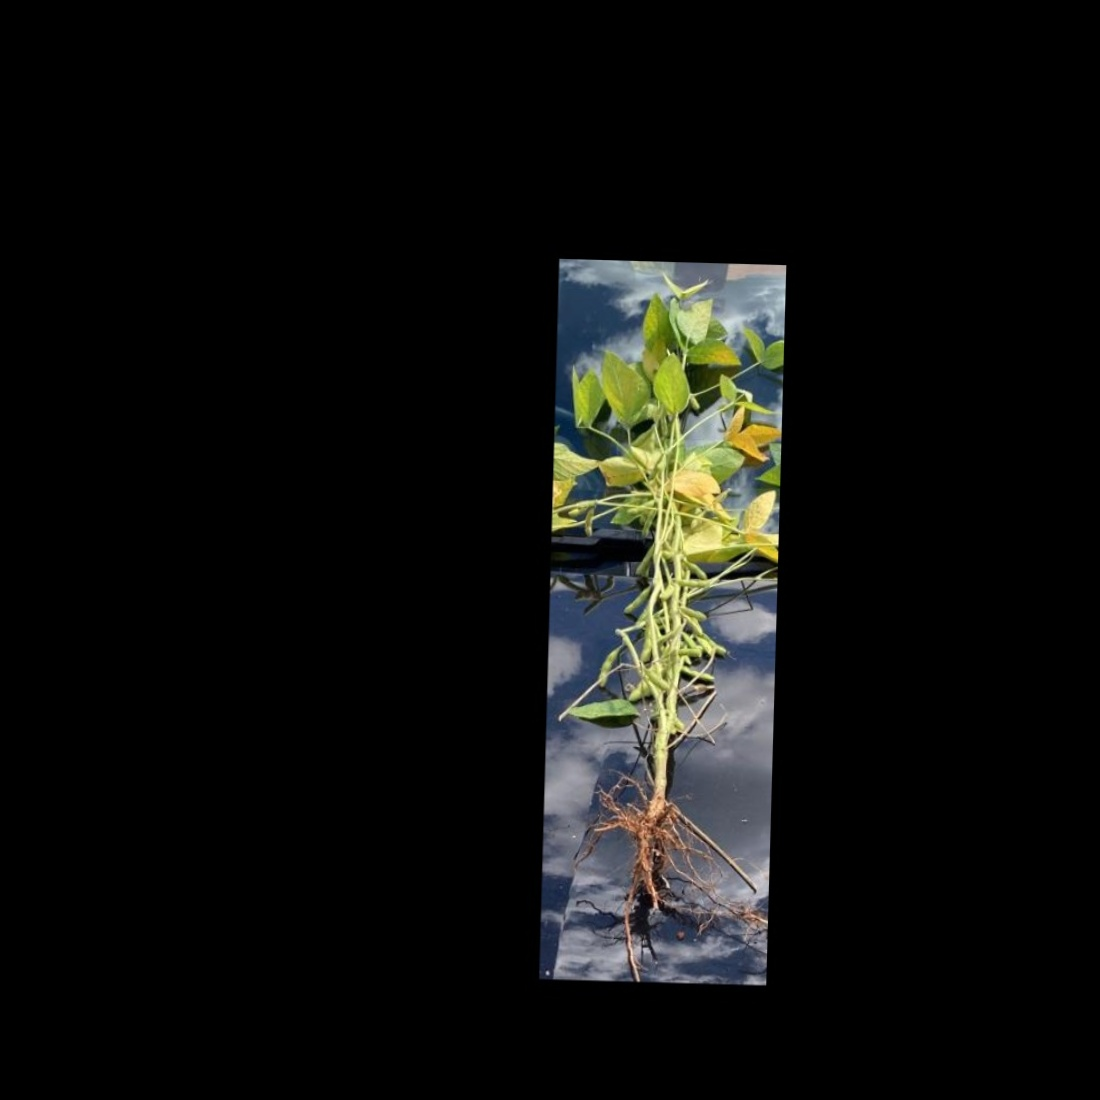pod: (595, 641, 622, 693), (622, 582, 651, 618), (631, 543, 655, 580), (678, 664, 715, 681), (682, 557, 709, 580), (674, 577, 710, 589), (672, 645, 702, 659)
soy: (549, 270, 772, 934)
